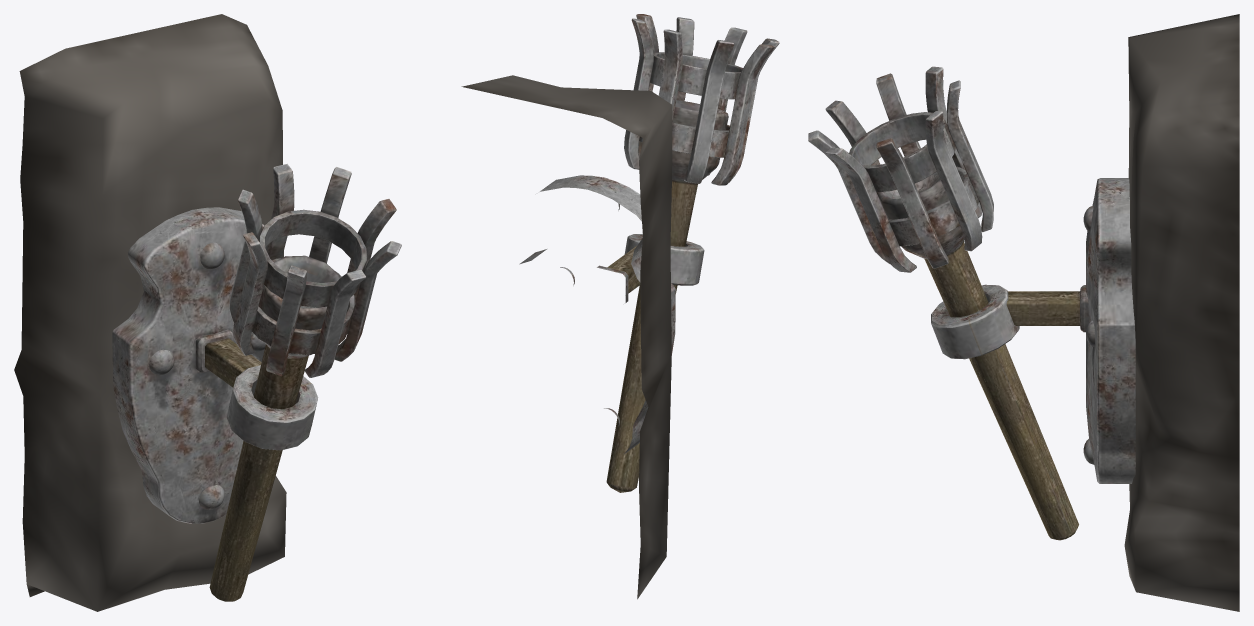
The model's file is SM_Torch.glb.
3 views of the same model, side by side, from view 1: azimuth 30°, elevation 25°; view 2: azimuth 150°, elevation 25°; view 3: azimuth 270°, elevation 25° (orthographic). The views are drawn at different scales.
Parts seen in each view (by area): view 1: SM_Torch; view 2: SM_Torch; view 3: SM_Torch.
Boxes of the visible parts, box(x1,y1,x2,y2) form: SM_Torch: box(14, 14, 401, 611); SM_Torch: box(461, 14, 779, 599); SM_Torch: box(808, 14, 1239, 611).
Size of the model in its own units: 0.4627 by 0.9862 by 0.7418.
2 materials, 2 textured.
